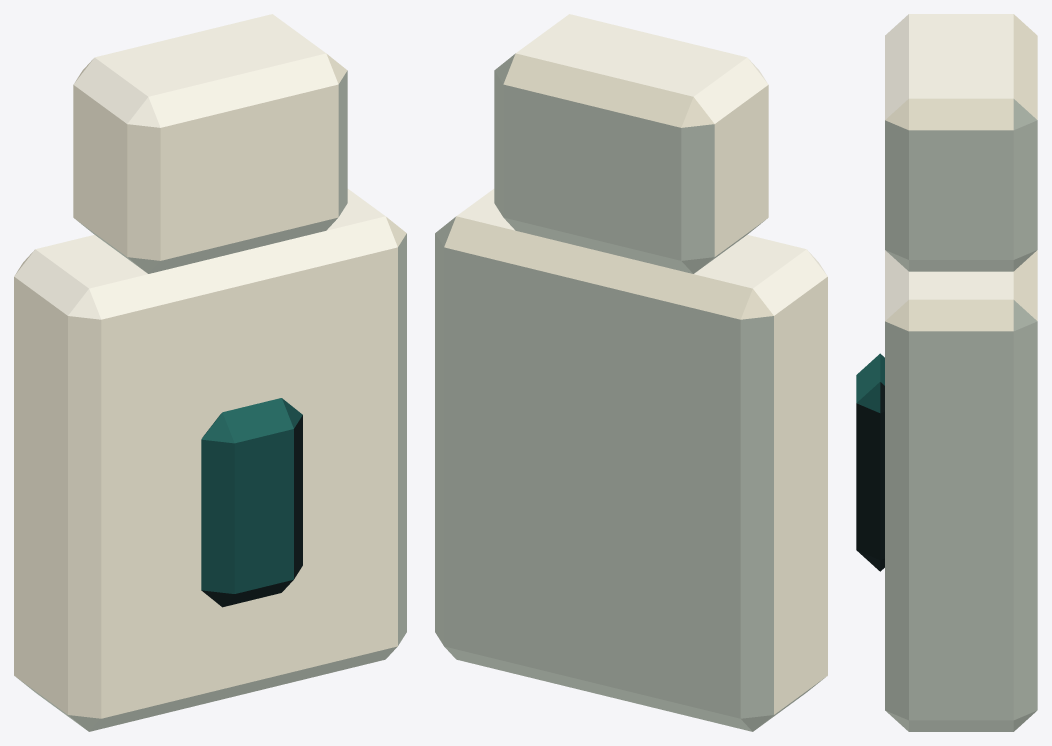
Rendered from LockWall_Emblem.gltf.
The picture shows the model from 3 angles, left to right: view 1: azimuth 30°, elevation 25°; view 2: azimuth 150°, elevation 25°; view 3: azimuth 270°, elevation 25°; orthographic projection. The views are drawn at different scales.
Visible parts, largest first — view 1: LockWall_Emblem_baked; view 2: LockWall_Emblem_baked; view 3: LockWall_Emblem_baked.
Part boxes in pixels (x1,y1,x2,y2): LockWall_Emblem_baked: (14,14,406,731); LockWall_Emblem_baked: (435,14,827,731); LockWall_Emblem_baked: (856,14,1037,731).
Size of the model in its own units: 0.4 by 0.7 by 0.19.
